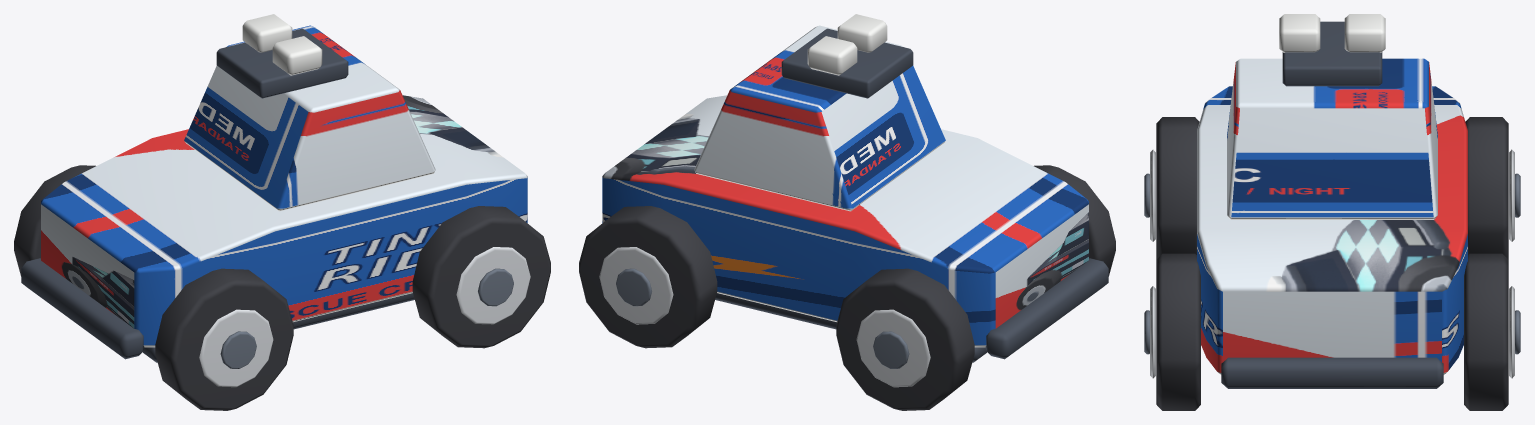
3 renders of one model, left to right at view 1: azimuth 30°, elevation 25°; view 2: azimuth 150°, elevation 25°; view 3: azimuth 270°, elevation 25°, orthographic. The views are drawn at different scales.
Parts seen in each view (by area): view 1: RC-02_connected_shell, RC-02_cabin, Tire, Tire.002, front bumper, beacon mount, Rim, Rim.002, Tire.001, beacon lens, beacon lens.001, underbody (+2 smaller); view 2: RC-02_connected_shell, RC-02_cabin, Tire.001, Tire.003, front bumper, beacon mount, Rim.001, Rim.003, Tire, beacon lens.001, beacon lens, underbody (+2 smaller); view 3: RC-02_connected_shell, RC-02_cabin, rear bumper, Tire.002, Tire.003, Tire, Tire.001, beacon mount, beacon lens, beacon lens.001, Rim.002, Rim.003 (+2 smaller).
Part boxes in pixels (left/top/right/bottom): RC-02_connected_shell: left=41, top=95, right=527, bottom=347; RC-02_cabin: left=184, top=25, right=435, bottom=211; Tire: left=155, top=268, right=293, bottom=410; Tire.002: left=412, top=206, right=550, bottom=348; front bumper: left=21, top=258, right=144, bottom=359; beacon mount: left=216, top=28, right=348, bottom=98; Rim: left=199, top=309, right=273, bottom=387; Rim.002: left=456, top=247, right=530, bottom=324; Tire.001: left=14, top=165, right=95, bottom=276; beacon lens: left=272, top=36, right=322, bottom=75; beacon lens.001: left=242, top=14, right=292, bottom=52; underbody: left=142, top=293, right=414, bottom=362; RC-02_connected_shell: left=602, top=95, right=1088, bottom=347; RC-02_cabin: left=694, top=25, right=945, bottom=211; Tire.001: left=836, top=268, right=974, bottom=410; Tire.003: left=579, top=206, right=717, bottom=348; front bumper: left=985, top=258, right=1108, bottom=359; beacon mount: left=781, top=28, right=913, bottom=98; Rim.001: left=856, top=309, right=930, bottom=387; Rim.003: left=599, top=247, right=673, bottom=324; Tire: left=1034, top=165, right=1115, bottom=276; beacon lens.001: left=807, top=36, right=857, bottom=75; beacon lens: left=837, top=14, right=887, bottom=52; underbody: left=715, top=293, right=987, bottom=362; RC-02_connected_shell: left=1197, top=86, right=1467, bottom=374; RC-02_cabin: left=1227, top=58, right=1437, bottom=219; rear bumper: left=1221, top=357, right=1443, bottom=388; Tire.002: left=1156, top=253, right=1200, bottom=410; Tire.003: left=1464, top=253, right=1508, bottom=410; Tire: left=1156, top=117, right=1199, bottom=259; Tire.001: left=1465, top=117, right=1508, bottom=259; beacon mount: left=1282, top=21, right=1382, bottom=86; beacon lens: left=1279, top=14, right=1320, bottom=52; beacon lens.001: left=1344, top=14, right=1385, bottom=52; Rim.002: left=1150, top=286, right=1155, bottom=378; Rim.003: left=1509, top=286, right=1514, bottom=378.
Bounding box in the file's own units: 308 × 201 × 219.
